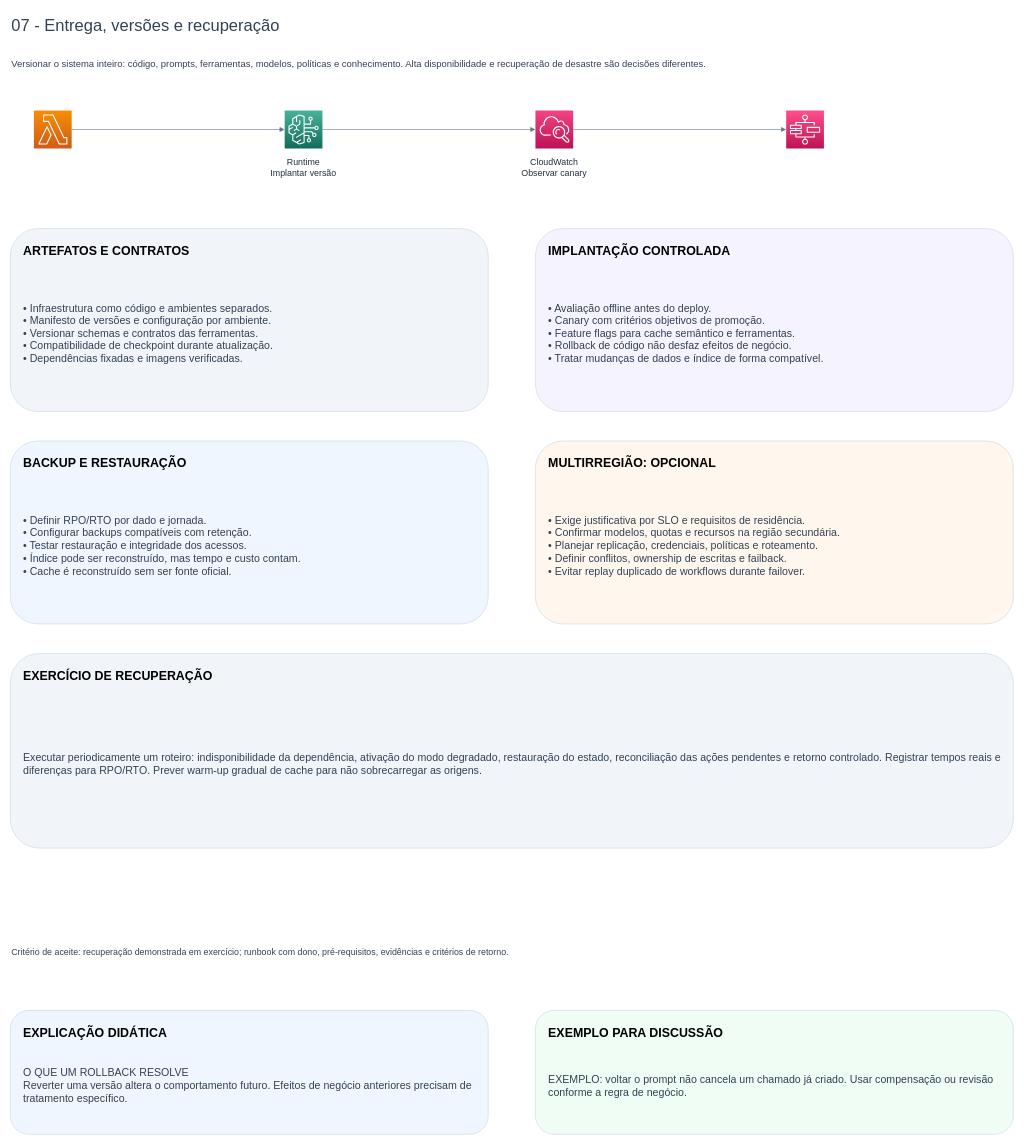
Image size: 1024x1145. Some labels were removed from this diagram. The centre of each missing label's shape, as x and y in pixels:
"CI / avaliação Validar artefatos" belongs at point 52,129.
"Workflow Promover ou reverter" belongs at point 805,129.
